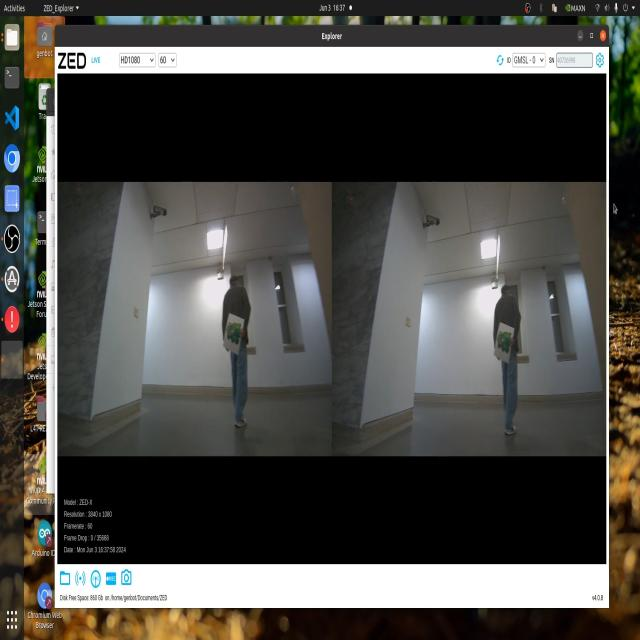green: (494, 326, 516, 364), (223, 312, 245, 349)
